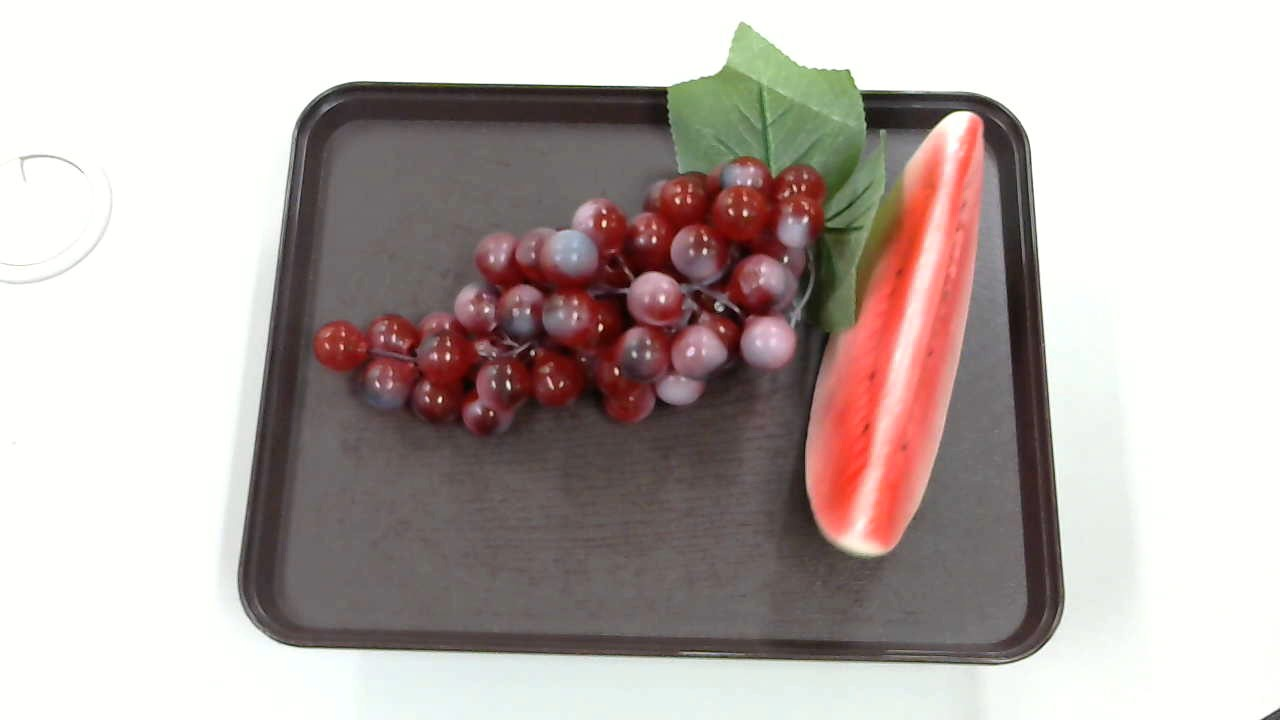grape: (307, 17, 893, 446)
water melon: (801, 107, 990, 558)
